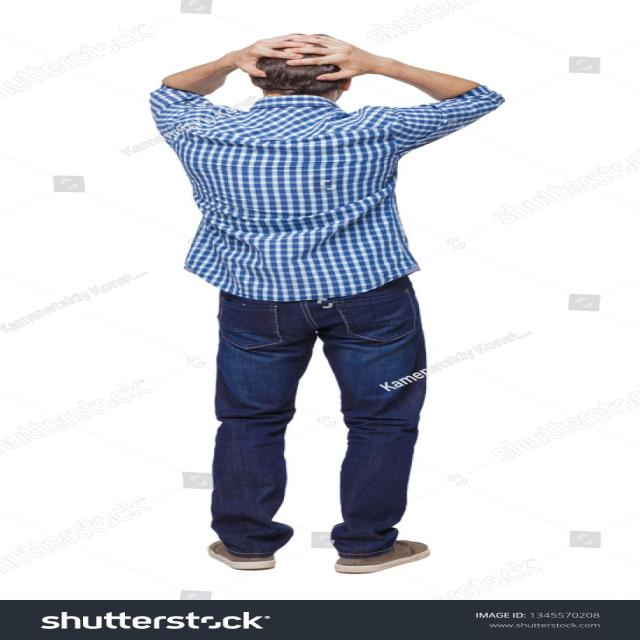adult: (150, 33, 502, 576)
